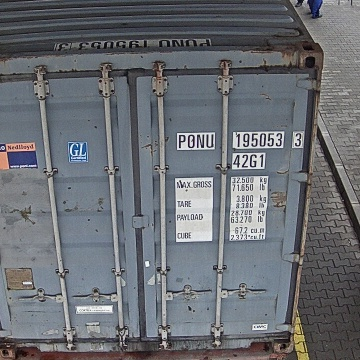serial_id: (178, 133, 302, 148)
